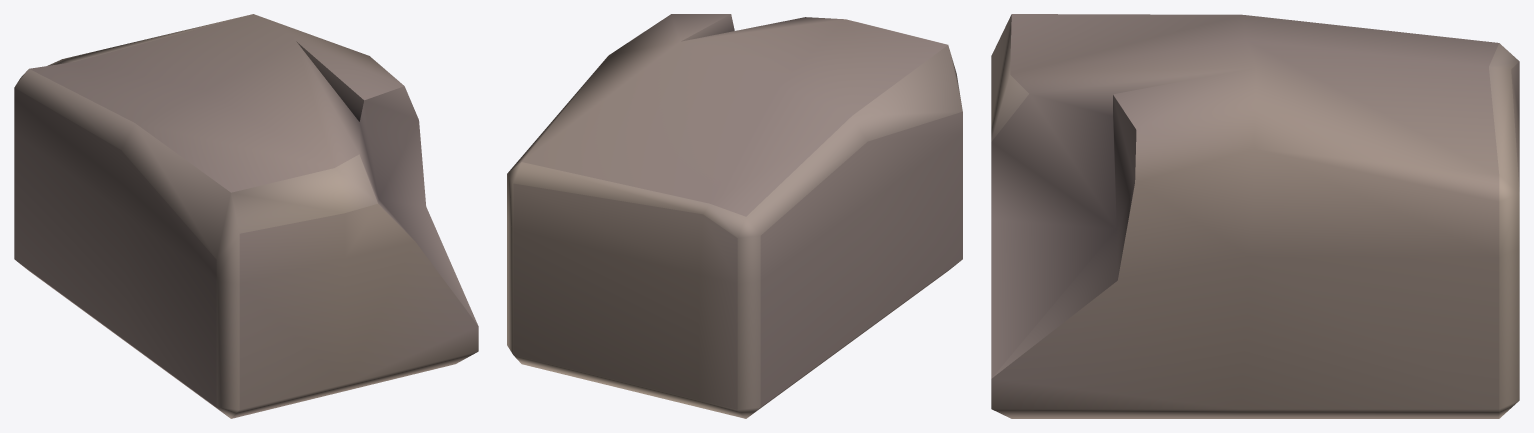
The model's file is buildings-ruins-ancientruins_v8.glb.
The picture shows the model from 3 angles, left to right: view 1: azimuth 30°, elevation 25°; view 2: azimuth 150°, elevation 25°; view 3: azimuth 270°, elevation 25°; orthographic projection. The views are drawn at different scales.
Visible parts, largest first — view 1: AncientRuins_v8; view 2: AncientRuins_v8; view 3: AncientRuins_v8.
Part boxes in pixels (bbox=[...]): AncientRuins_v8: bbox=[14, 14, 478, 418]; AncientRuins_v8: bbox=[507, 14, 962, 418]; AncientRuins_v8: bbox=[991, 14, 1519, 418].
Bounding box in the file's own units: 2.62 × 2.6 × 3.92.
